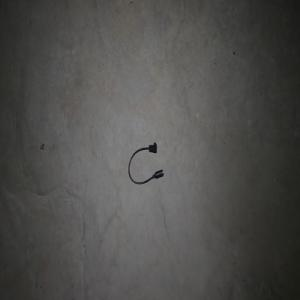Wire: (128, 142, 164, 184)
